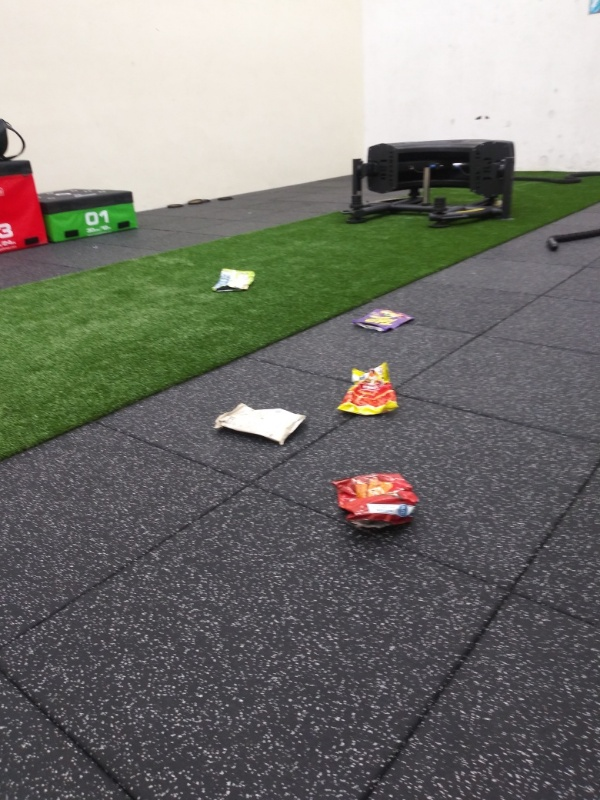bag: (325, 468, 424, 535), (202, 399, 315, 449), (329, 359, 405, 420), (349, 303, 419, 339), (210, 265, 262, 295)
